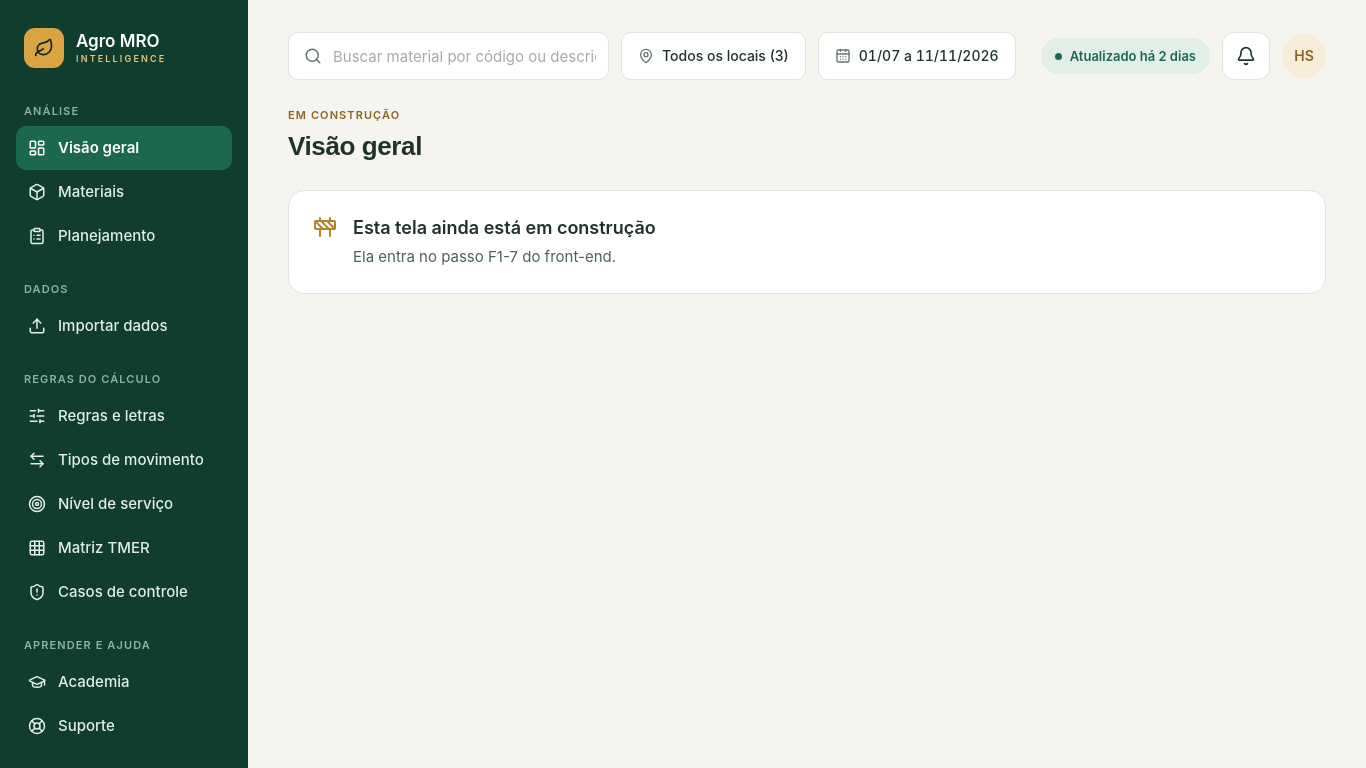
Test: BuscaGlobal › código com espaços acha a posição e marca os dígitos
Type "0012 3456" into the dropdown named "Buscar material ou tela" at {"x": 449, "y": 56}, box left=288, top=32, right=609, bottom=80
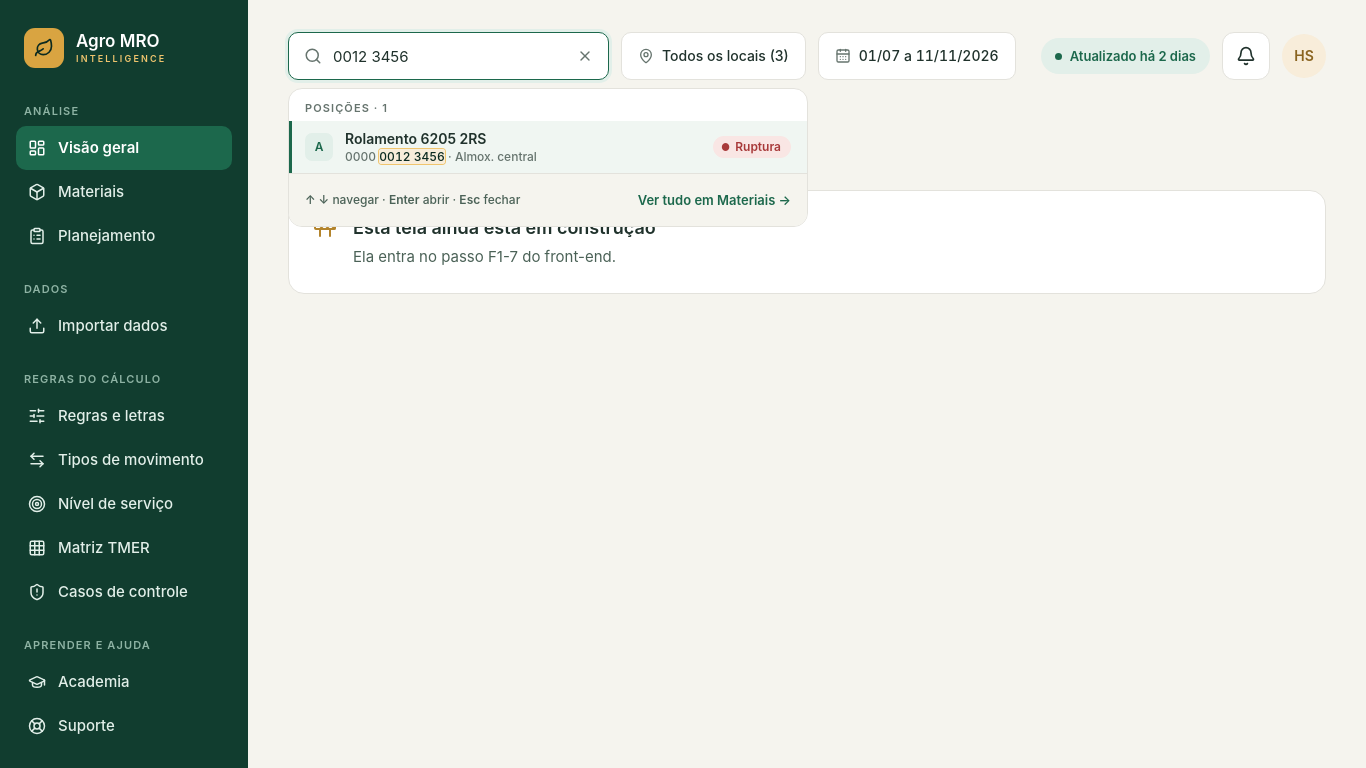
Check: the text "0012 3456" is shown, box left=379, top=149, right=445, bottom=164
